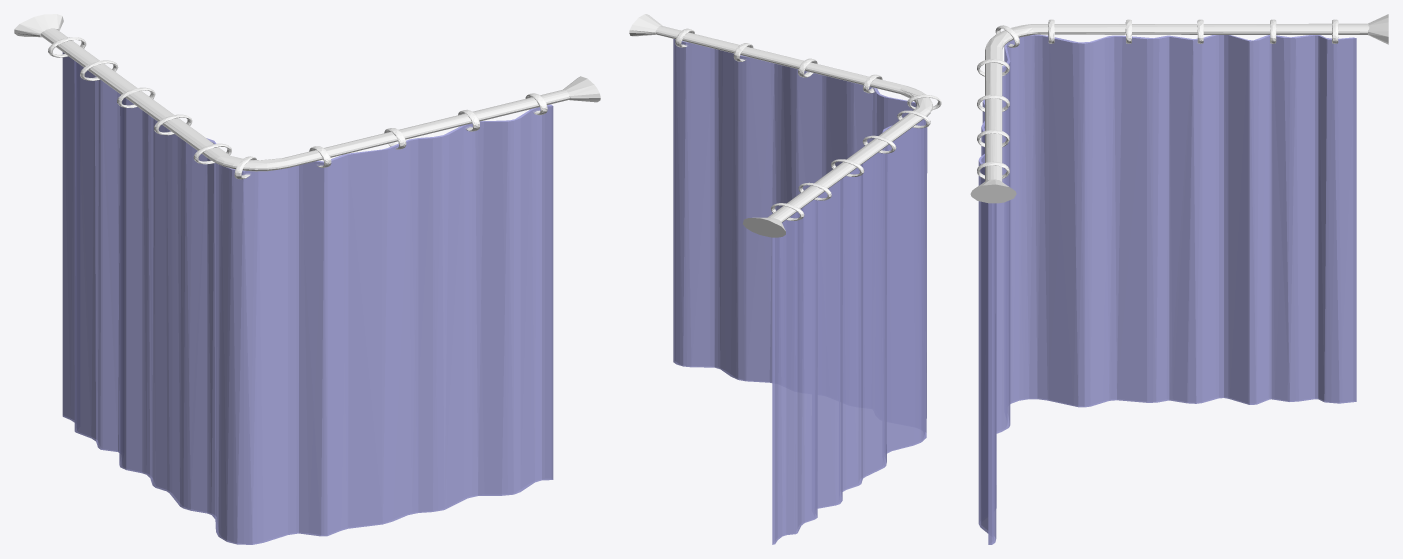
Rendered from sh-contrib-tenda-doccia.glb.
3 views of the same model, side by side, from view 1: azimuth 30°, elevation 25°; view 2: azimuth 150°, elevation 25°; view 3: azimuth 270°, elevation 25° (orthographic). The views are drawn at different scales.
Parts seen in each view (by area): view 1: 1_1, 14_14, 13_13; view 2: 1_1, 14_14, 13_13; view 3: 1_1, 14_14, 13_13.
Part boxes in pixels (<box>): 1_1: <box>62,52,553,544</box>; 14_14: <box>14,14,600,171</box>; 13_13: <box>48,37,547,179</box>; 1_1: <box>673,39,927,544</box>; 14_14: <box>629,14,932,237</box>; 13_13: <box>675,28,941,220</box>; 1_1: <box>978,34,1356,544</box>; 14_14: <box>970,14,1388,203</box>; 13_13: <box>977,19,1338,179</box>.
Size of the model in its own units: 0.9987 by 0.9999 by 1.
